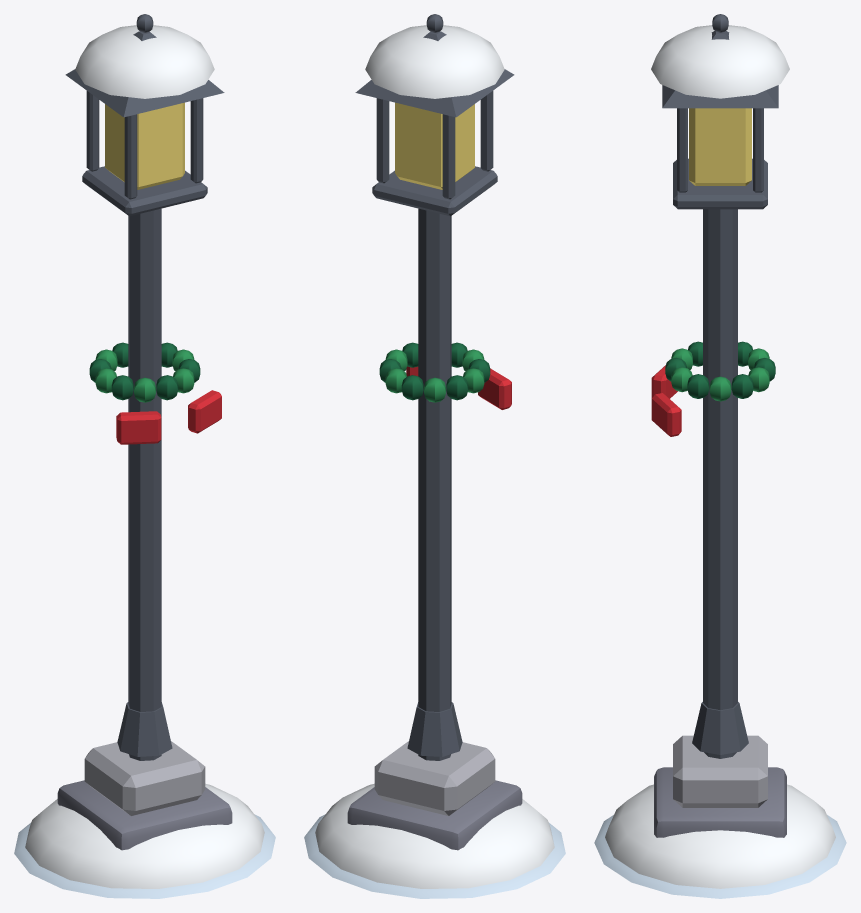
File: vuena-prop-lantern-post.glb
3 views of the same model, side by side, from view 1: azimuth 30°, elevation 25°; view 2: azimuth 150°, elevation 25°; view 3: azimuth 270°, elevation 25° (orthographic).
Parts seen in each view (by area): view 1: lantern_post; view 2: lantern_post; view 3: lantern_post.
Boxes of the visible parts, left/top/right/bottom form: lantern_post: left=14, top=14, right=275, bottom=898; lantern_post: left=304, top=14, right=565, bottom=898; lantern_post: left=594, top=14, right=846, bottom=898.
Size of the model in its own units: 0.8401 by 2.89 by 0.7981.
1 material, 1 textured.
